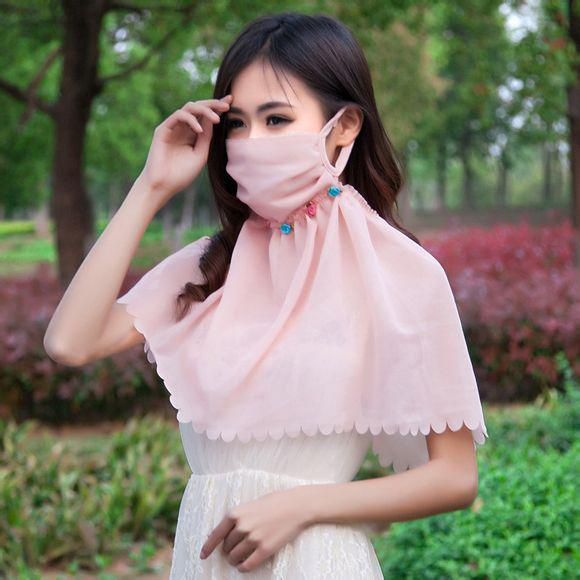OK: (224, 94, 344, 216)
